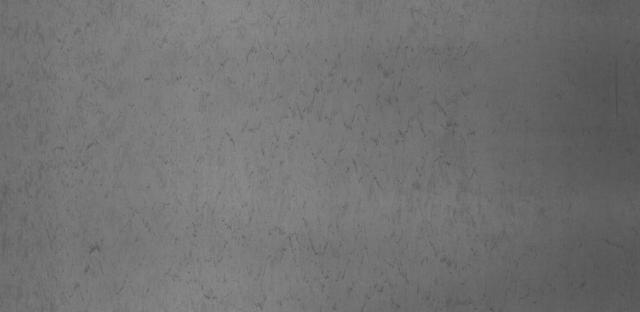silk_spot: (178, 60, 528, 280)
